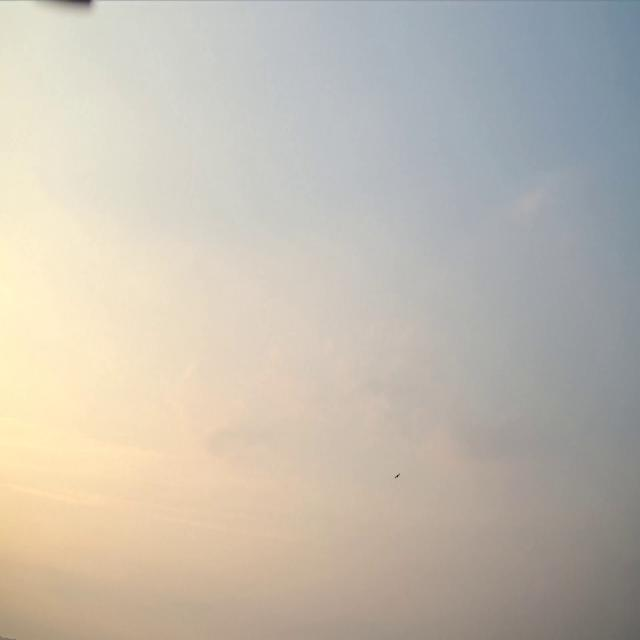UAV: (395, 472, 400, 478)
